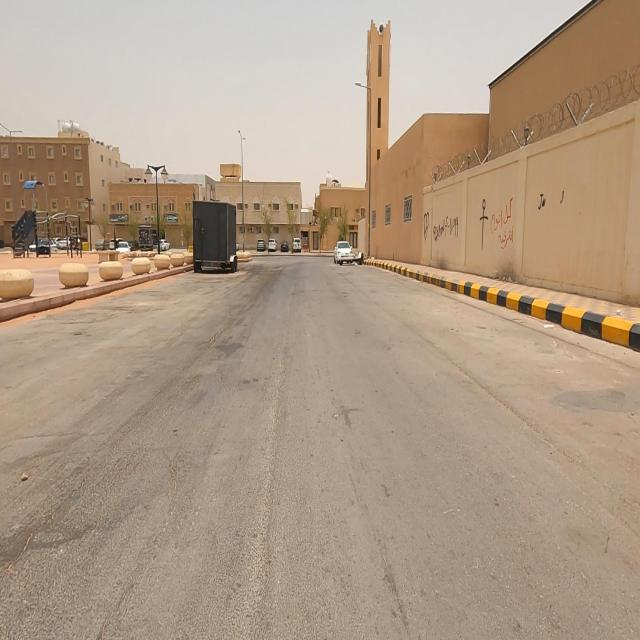Graffiti: (480, 196, 518, 253), (435, 215, 461, 244), (423, 210, 431, 243), (538, 194, 548, 212), (558, 190, 568, 205)
